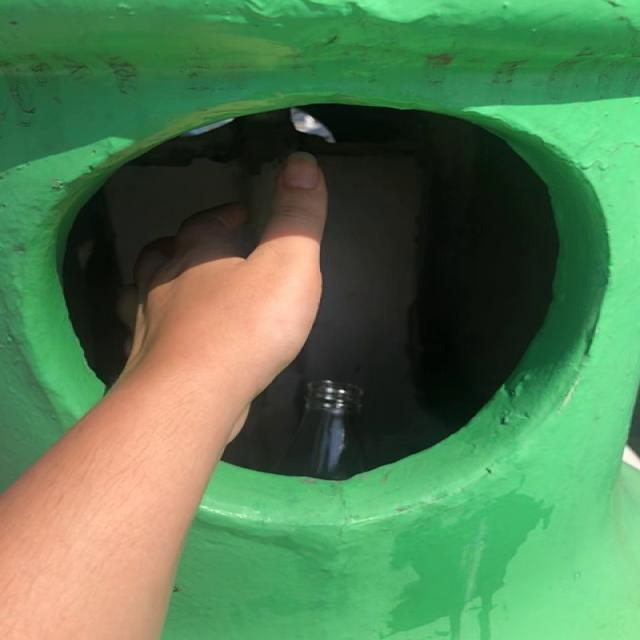Glass: (283, 381, 365, 480)
